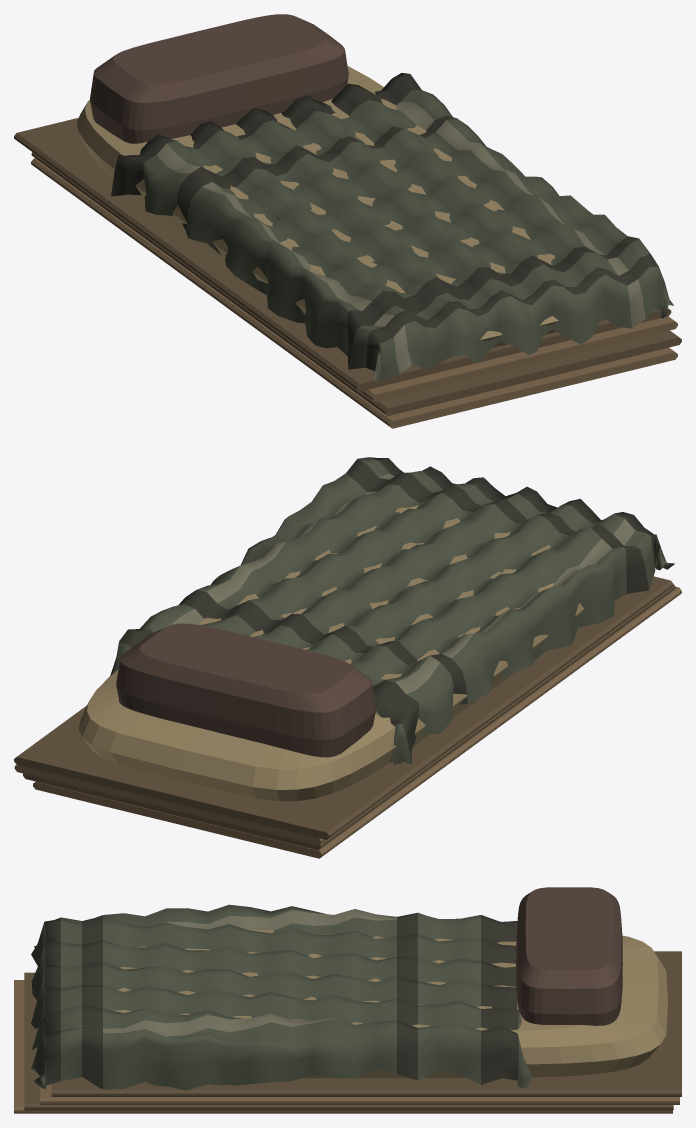
Rendered from A-10_sleeping_nest.glb.
The picture shows the model from 3 angles, top to bottom: view 1: azimuth 30°, elevation 25°; view 2: azimuth 150°, elevation 25°; view 3: azimuth 270°, elevation 25°; orthographic projection. The views are drawn at different scales.
Parts seen in each view (by area): view 1: A-10_sleeping_nest; view 2: A-10_sleeping_nest; view 3: A-10_sleeping_nest.
Boxes of the visible parts, bbox=[...] form: A-10_sleeping_nest: bbox=[14, 14, 681, 428]; A-10_sleeping_nest: bbox=[14, 457, 681, 858]; A-10_sleeping_nest: bbox=[14, 887, 681, 1113].
Size of the model in its own units: 0.9063 by 0.3485 by 1.81.
